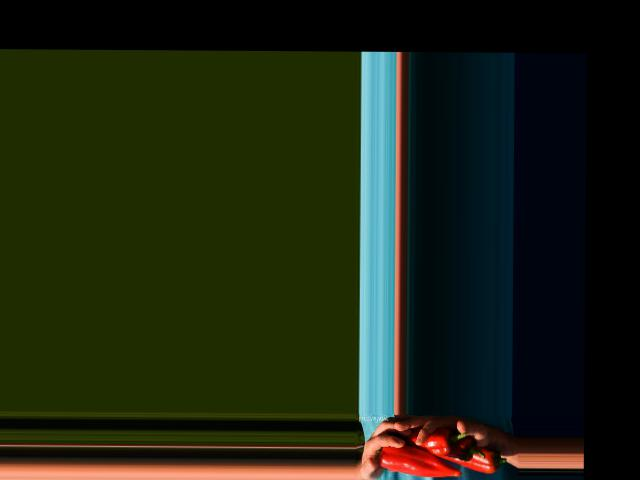bell_pepper: (454, 444, 507, 473)
